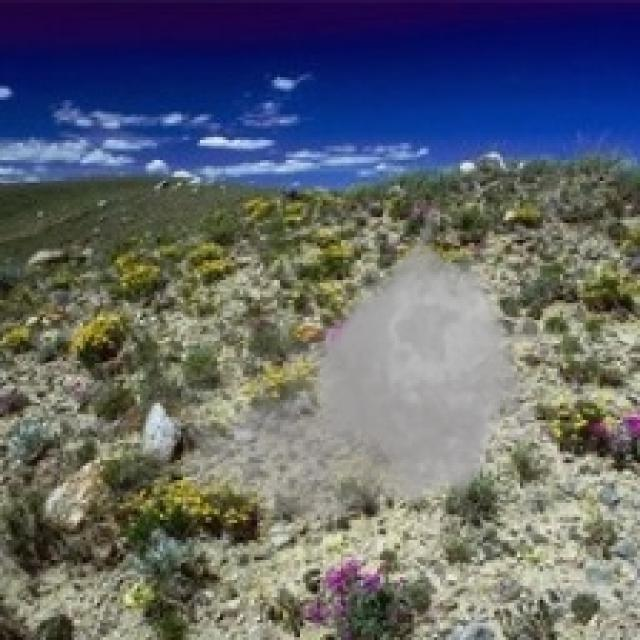Smoke: (177, 197, 563, 543)
